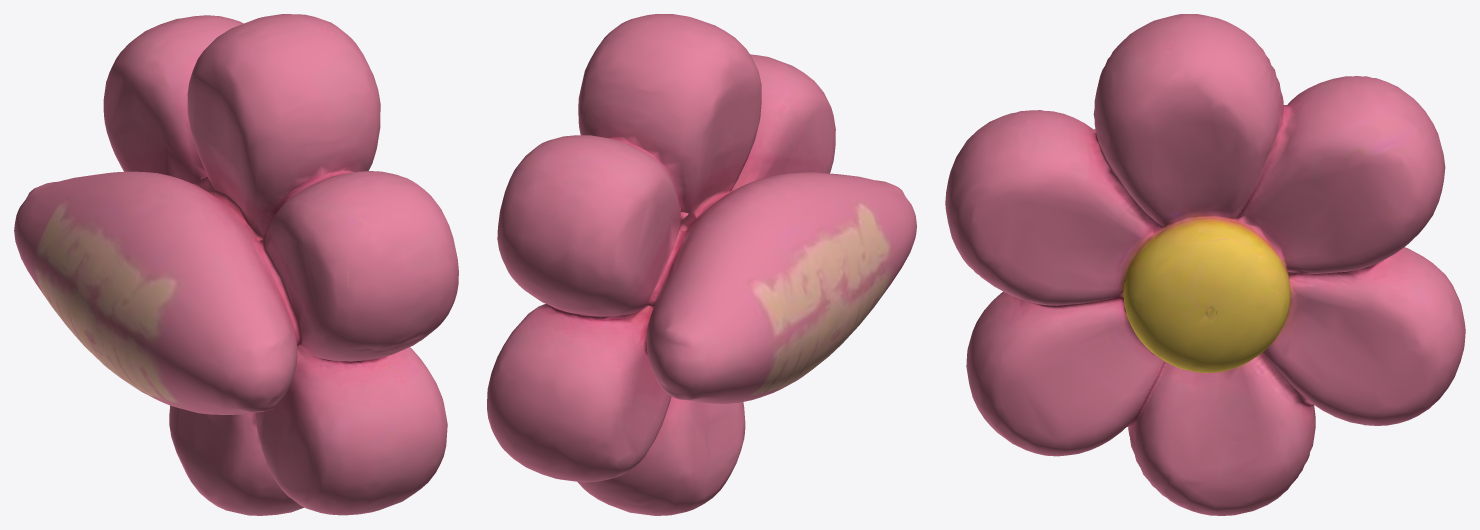
The model's file is flower.glb.
The picture shows the model from 3 angles, left to right: view 1: azimuth 30°, elevation 25°; view 2: azimuth 150°, elevation 25°; view 3: azimuth 270°, elevation 25°; orthographic projection. The views are drawn at different scales.
Visible parts, largest first — view 1: tripo_node_bb46f162-fd65-4743-bd69-dba9f136e792; view 2: tripo_node_bb46f162-fd65-4743-bd69-dba9f136e792; view 3: tripo_node_bb46f162-fd65-4743-bd69-dba9f136e792.
Boxes of the visible parts, box(x1,y1,x2,y2) form: tripo_node_bb46f162-fd65-4743-bd69-dba9f136e792: box(14, 14, 458, 515); tripo_node_bb46f162-fd65-4743-bd69-dba9f136e792: box(487, 14, 916, 515); tripo_node_bb46f162-fd65-4743-bd69-dba9f136e792: box(945, 14, 1465, 515).
Size of the model in its own units: 0.5965 by 1 by 0.984.
Materials: 1 (1 with a texture image).
